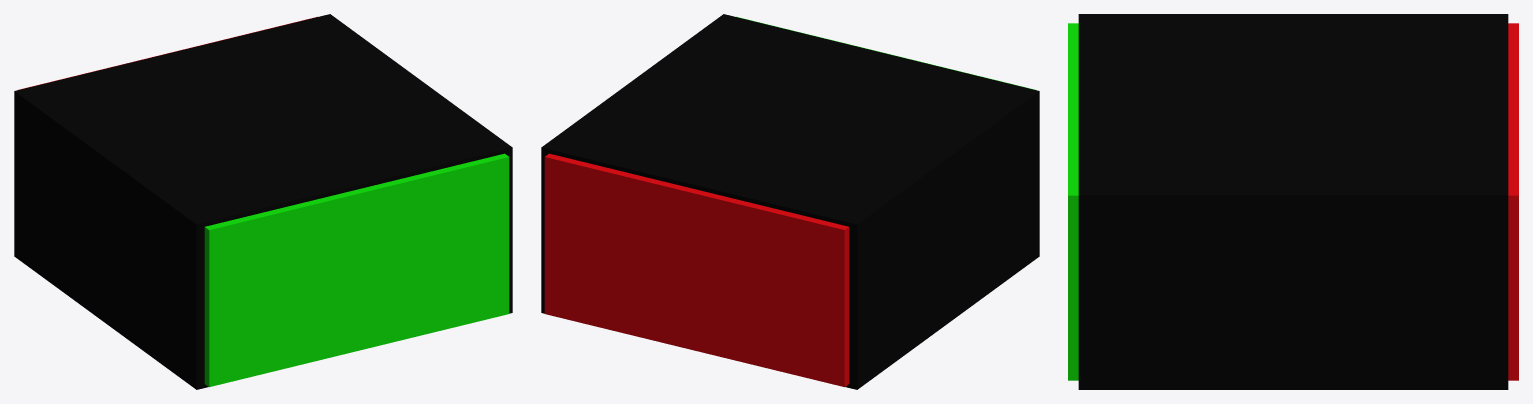
The model's file is Conveyor.fbx.
The picture shows the model from 3 angles, left to right: view 1: azimuth 30°, elevation 25°; view 2: azimuth 150°, elevation 25°; view 3: azimuth 270°, elevation 25°; orthographic projection. The views are drawn at different scales.
Parts seen in each view (by area): view 1: Conveyor, Input; view 2: Conveyor, Output; view 3: Conveyor, Input, Output.
Part boxes in pixels (x1,y1,x2,y2): Conveyor: (14, 14, 512, 389); Input: (204, 153, 509, 387); Conveyor: (541, 14, 1039, 389); Output: (544, 153, 849, 387); Conveyor: (1078, 14, 1508, 389); Input: (1068, 23, 1078, 380); Output: (1508, 23, 1518, 380).
Size of the model in its own units: 200 by 100 by 210.
